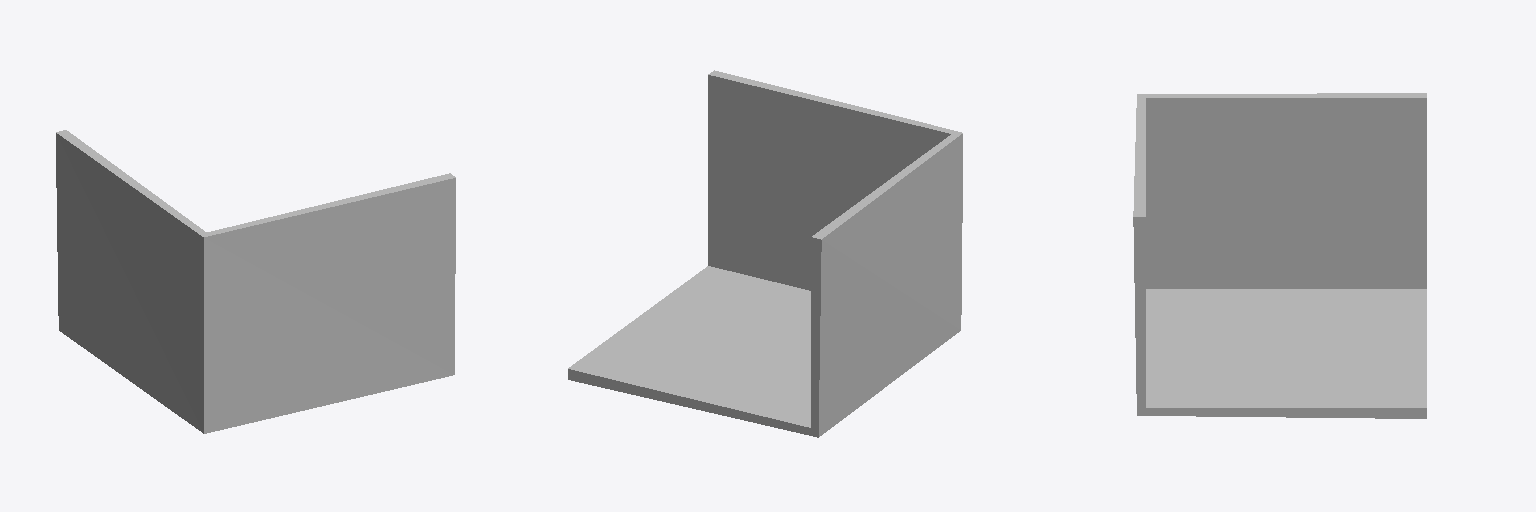
Rendered from room_walls.obj.
The picture shows the model from 3 angles: view 1: azimuth 30°, elevation 25°; view 2: azimuth 150°, elevation 25°; view 3: azimuth 270°, elevation 25°; orthographic projection.
Visible parts, largest first — view 1: Cube_Cube.001; view 2: Cube_Cube.001; view 3: Cube_Cube.001.
Boxes of the visible parts, <box> form: Cube_Cube.001: <box>56,130,455,433</box>; Cube_Cube.001: <box>568,70,962,437</box>; Cube_Cube.001: <box>1133,93,1426,418</box>.
Size of the model in its own units: 4.17 by 3.17 by 4.17.